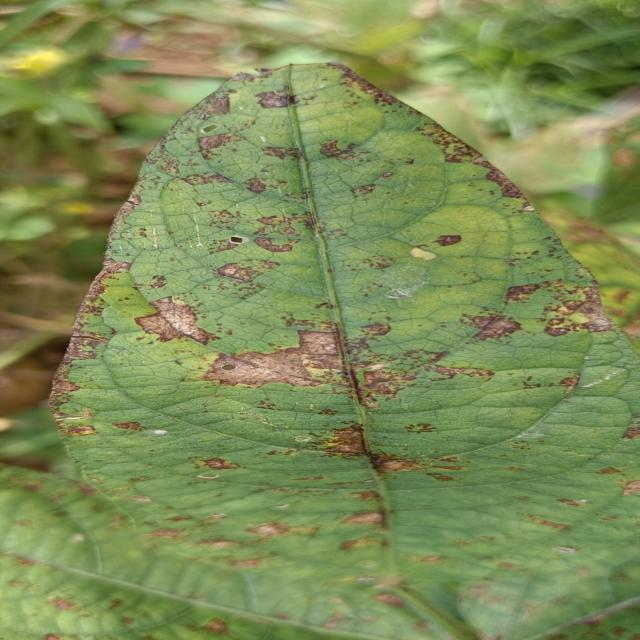Black gram_leaf spot: (69, 54, 640, 638)
